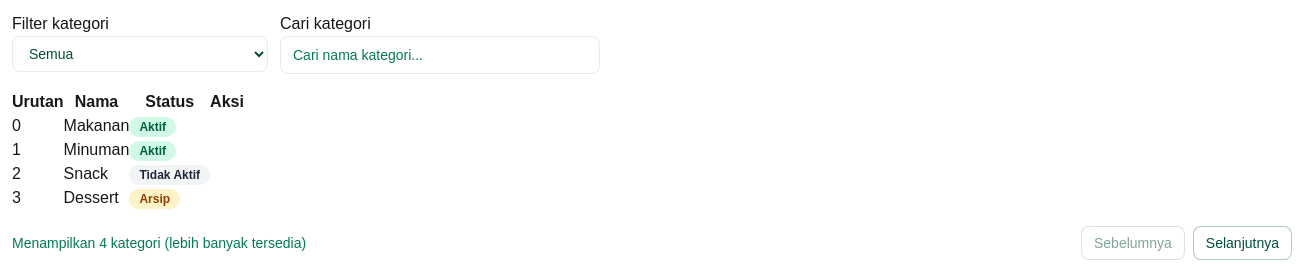
Test: CategoryTable DOM › disables pagination buttons during pending fetch
The width and height of the screenshot is (1304, 277).
Check: the text "Makanan" is shown, box x1=64 y1=114 x2=129 y2=138
Click the button "Selanjutnya" at [1242, 243], box x1=1193 y1=226 x2=1292 y2=260
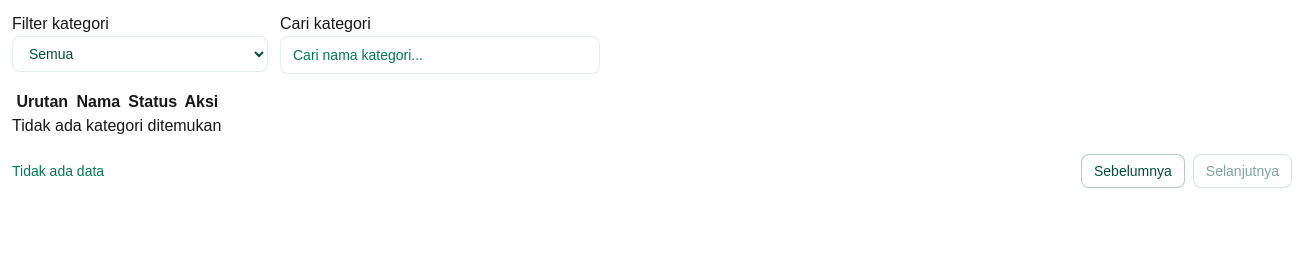
Check: the button "Selanjutnya" is disabled, box x1=1193 y1=154 x2=1292 y2=188
